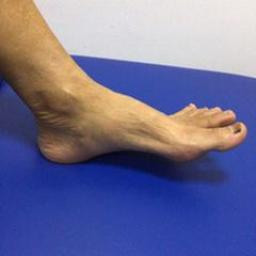Medial View -Left Foot-: (10, 62, 250, 175)
